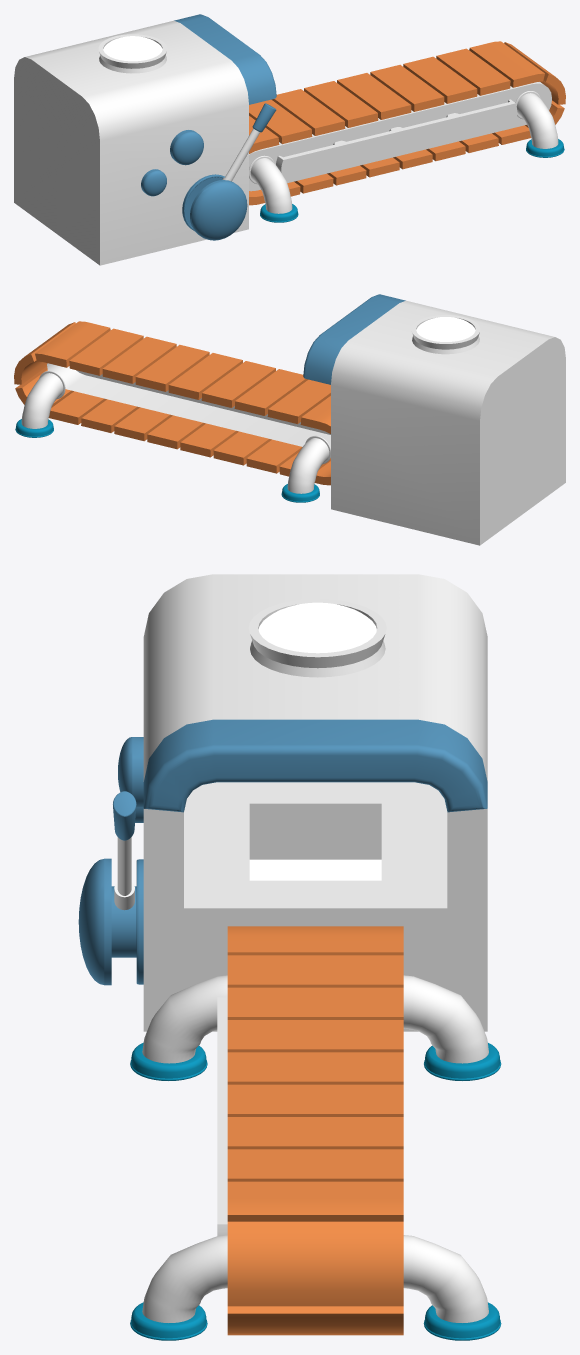
File: conveyor-belt.gltf
3 renders of one model, top to bottom at view 1: azimuth 30°, elevation 25°; view 2: azimuth 150°, elevation 25°; view 3: azimuth 270°, elevation 25°, orthographic. The views are drawn at different scales.
Parts seen in each view (by area): view 1: Circle002_1, Plane001, Plane002, Circle002_2, Cylinder001, Circle002, Circle002_3, Cylinder001_1; view 2: Circle002_1, Plane001, Plane002, Cylinder001, Circle002_2, Circle002, Circle002_3, Cylinder001_1; view 3: Circle002_1, Plane001, Circle002_2, Cylinder001, Circle002_3, Cylinder001_1, Circle002, Plane002.
Boxes of the visible parts, x1=… form: Circle002_1: x1=14, y1=20, x2=248, y2=265; Plane001: x1=249, y1=41, x2=565, y2=205; Plane002: x1=249, y1=82, x2=551, y2=191; Circle002_2: x1=141, y1=14, x2=276, y2=240; Cylinder001: x1=249, y1=91, x2=558, y2=213; Circle002: x1=98, y1=34, x2=259, y2=181; Circle002_3: x1=103, y1=36, x2=162, y2=61; Cylinder001_1: x1=260, y1=139, x2=564, y2=222; Circle002_1: x1=331, y1=300, x2=565, y2=545; Plane001: x1=14, y1=321, x2=330, y2=485; Plane002: x1=47, y1=363, x2=330, y2=447; Cylinder001: x1=21, y1=371, x2=330, y2=493; Circle002_2: x1=303, y1=294, x2=405, y2=384; Circle002: x1=411, y1=315, x2=480, y2=354; Circle002_3: x1=416, y1=317, x2=475, y2=341; Cylinder001_1: x1=15, y1=419, x2=319, y2=502; Circle002_1: x1=143, y1=574, x2=487, y2=1031; Plane001: x1=227, y1=926, x2=403, y2=1335; Circle002_2: x1=78, y1=719, x2=487, y2=985; Cylinder001: x1=142, y1=975, x2=488, y2=1322; Circle002_3: x1=249, y1=602, x2=381, y2=880; Cylinder001_1: x1=130, y1=1042, x2=501, y2=1340; Circle002: x1=114, y1=599, x2=386, y2=910; Plane002: x1=217, y1=997, x2=227, y2=1235.
Size of the model in its own units: 8.58 by 2.92 by 3.22.
